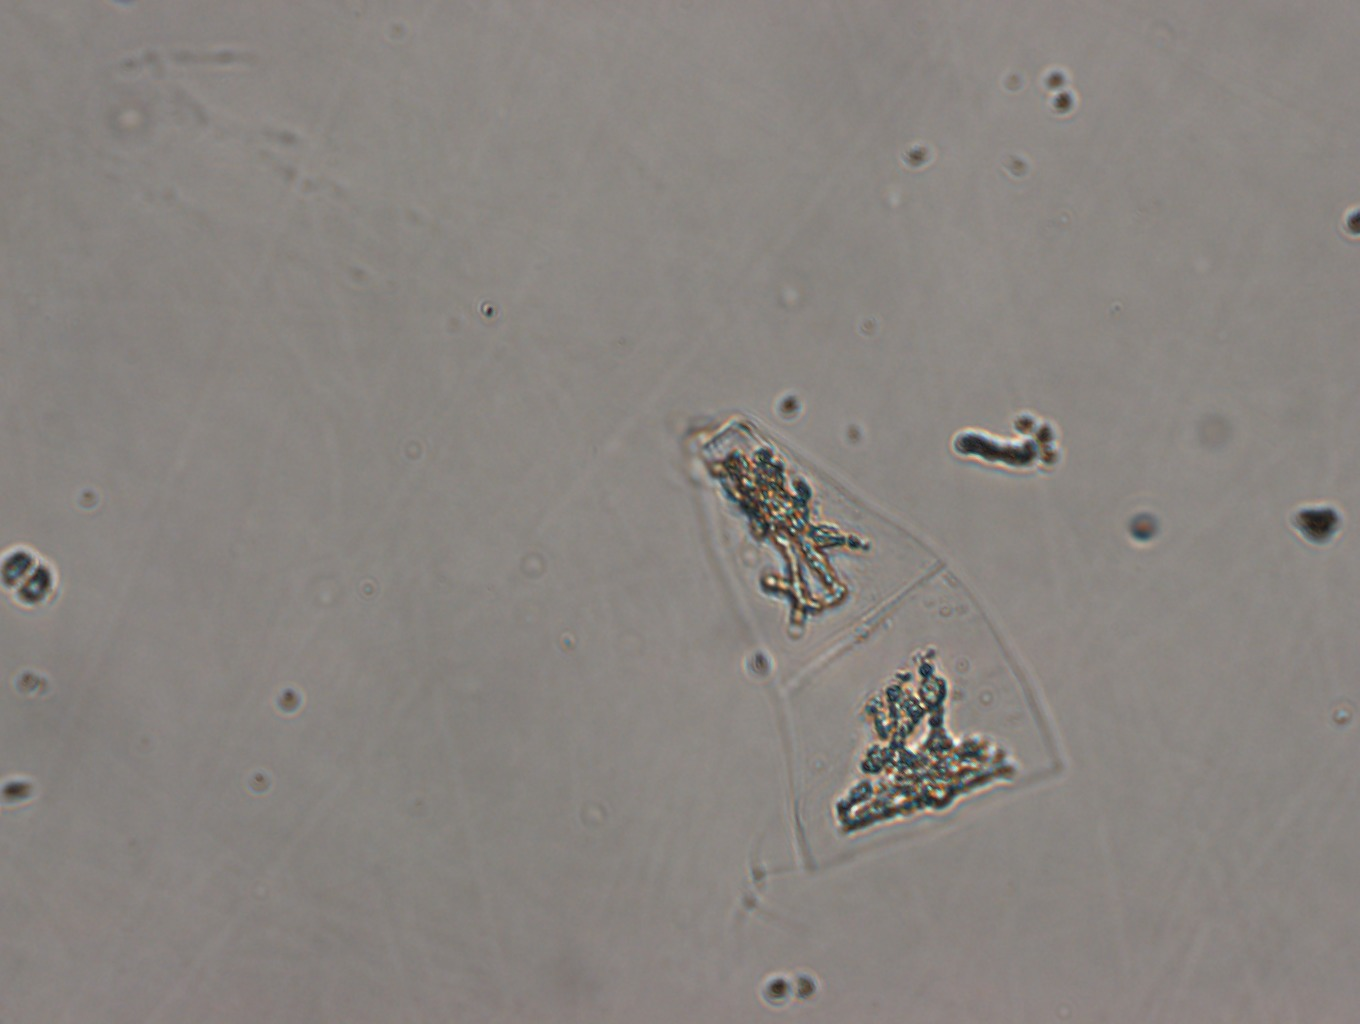helicotheca: (686, 410, 1063, 876)
